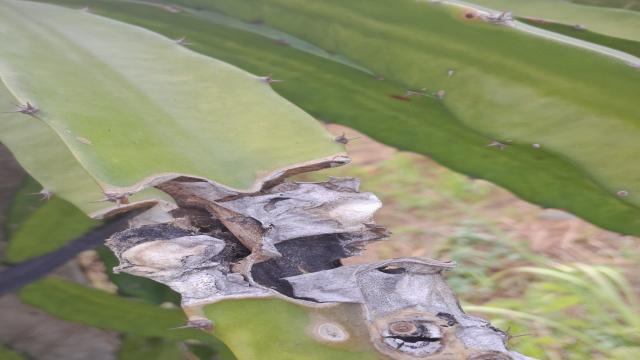stemcanker: (287, 312, 354, 347), (444, 2, 506, 30)
